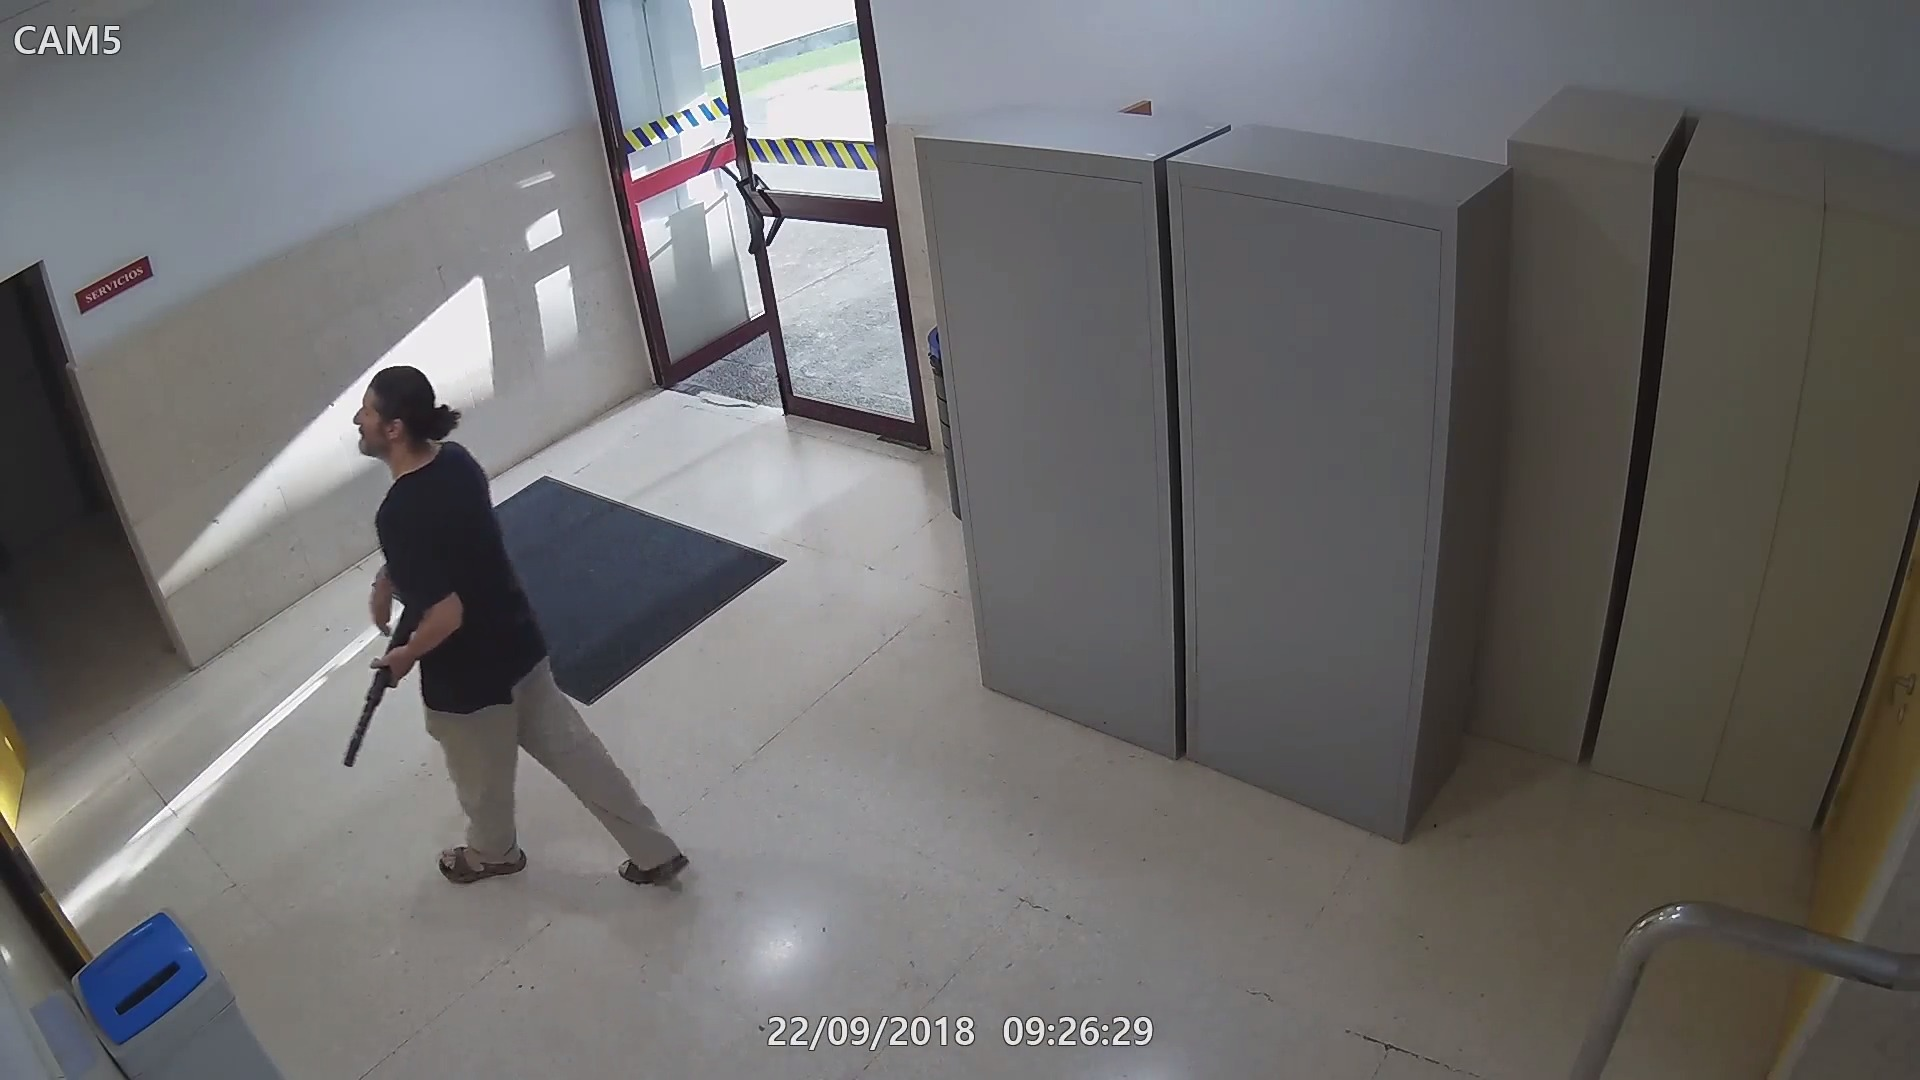Short_rifle: (335, 609, 419, 774)
